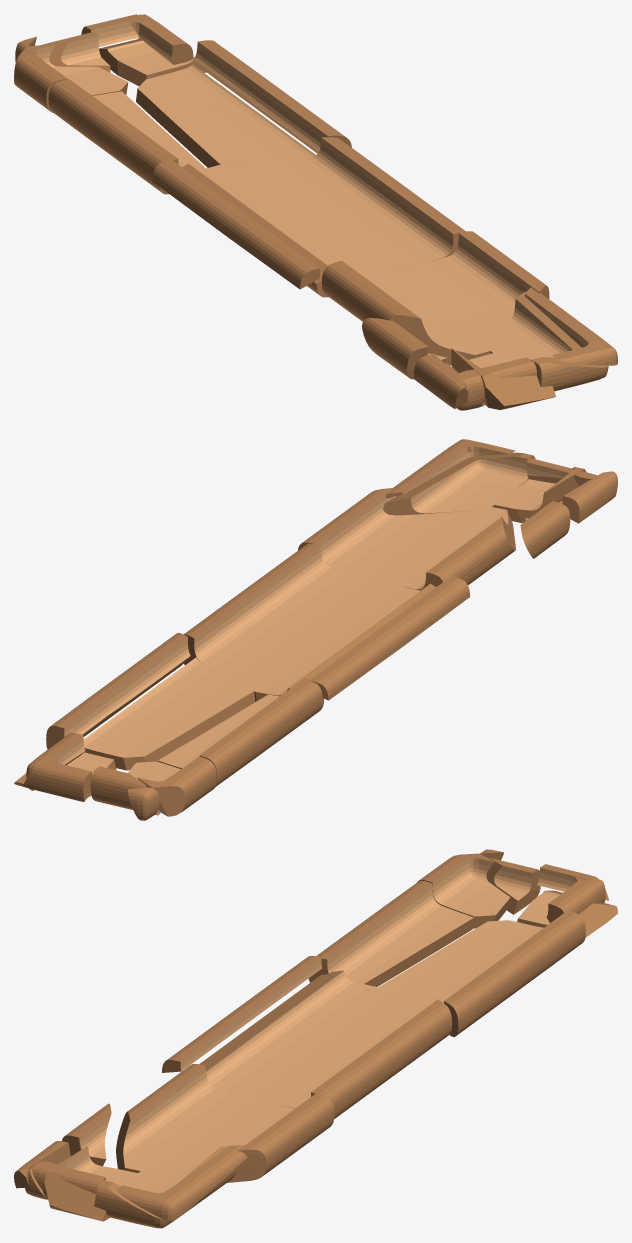
The model's file is Button3.fbx.
3 views of the same model, one above another, from view 1: azimuth 30°, elevation 25°; view 2: azimuth 150°, elevation 25°; view 3: azimuth 330°, elevation 25° (orthographic). The views are drawn at different scales.
Parts seen in each view (by area): view 1: Button3_cell.016, Button3_cell.013, Button3_cell.004, Button3_cell.006, Button3_cell.008, Button3_cell.002, Button3_cell.011, Button3_cell.019, Button3_cell.017, Button3_cell, Button3_cell.005, Button3_cell.009 (+5 smaller); view 2: Button3_cell.016, Button3_cell.013, Button3_cell.004, Button3_cell.006, Button3_cell.002, Button3_cell.008, Button3_cell.011, Button3_cell.019, Button3_cell.017, Button3_cell.012, Button3_cell, Button3_cell.005 (+6 smaller); view 3: Button3_cell.016, Button3_cell.013, Button3_cell.006, Button3_cell.004, Button3_cell.011, Button3_cell.019, Button3_cell.008, Button3_cell, Button3_cell.002, Button3_cell.017, Button3_cell.007, Button3_cell.009 (+5 smaller).
Part boxes in pixels (left/top/right/bottom): Button3_cell.016: left=182, top=137, right=465, bottom=297; Button3_cell.013: left=321, top=231, right=549, bottom=365; Button3_cell.004: left=136, top=64, right=315, bottom=167; Button3_cell.006: left=48, top=79, right=205, bottom=194; Button3_cell.008: left=152, top=159, right=320, bottom=289; Button3_cell.002: left=489, top=292, right=608, bottom=391; Button3_cell.011: left=193, top=40, right=351, bottom=153; Button3_cell.019: left=14, top=44, right=128, bottom=112; Button3_cell.017: left=451, top=348, right=555, bottom=409; Button3_cell: left=525, top=287, right=617, bottom=365; Button3_cell.005: left=362, top=318, right=447, bottom=379; Button3_cell.009: left=99, top=39, right=206, bottom=86; Button3_cell.016: left=183, top=543, right=435, bottom=701; Button3_cell.013: left=298, top=488, right=515, bottom=590; Button3_cell.004: left=83, top=657, right=258, bottom=770; Button3_cell.006: left=157, top=678, right=324, bottom=786; Button3_cell.002: left=383, top=452, right=535, bottom=515; Button3_cell.008: left=309, top=576, right=469, bottom=700; Button3_cell.011: left=46, top=632, right=190, bottom=749; Button3_cell.019: left=128, top=756, right=216, bottom=816; Button3_cell.017: left=494, top=467, right=586, bottom=522; Button3_cell.012: left=23, top=759, right=92, bottom=801; Button3_cell: left=385, top=439, right=515, bottom=498; Button3_cell.005: left=520, top=501, right=570, bottom=558; Button3_cell.016: left=199, top=970, right=452, bottom=1118; Button3_cell.013: left=116, top=1064, right=334, bottom=1182; Button3_cell.006: left=308, top=880, right=474, bottom=986; Button3_cell.004: left=373, top=920, right=543, bottom=1010; Button3_cell.011: left=444, top=910, right=585, bottom=1036; Button3_cell.019: left=417, top=853, right=510, bottom=928; Button3_cell.008: left=162, top=956, right=322, bottom=1072; Button3_cell: left=116, top=1145, right=247, bottom=1221; Button3_cell.002: left=94, top=1146, right=236, bottom=1228; Button3_cell.017: left=44, top=1146, right=137, bottom=1221; Button3_cell.007: left=486, top=857, right=540, bottom=914; Button3_cell.009: left=517, top=890, right=617, bottom=937.
Bounding box in the file's own units: 149 × 27.24 × 676.
